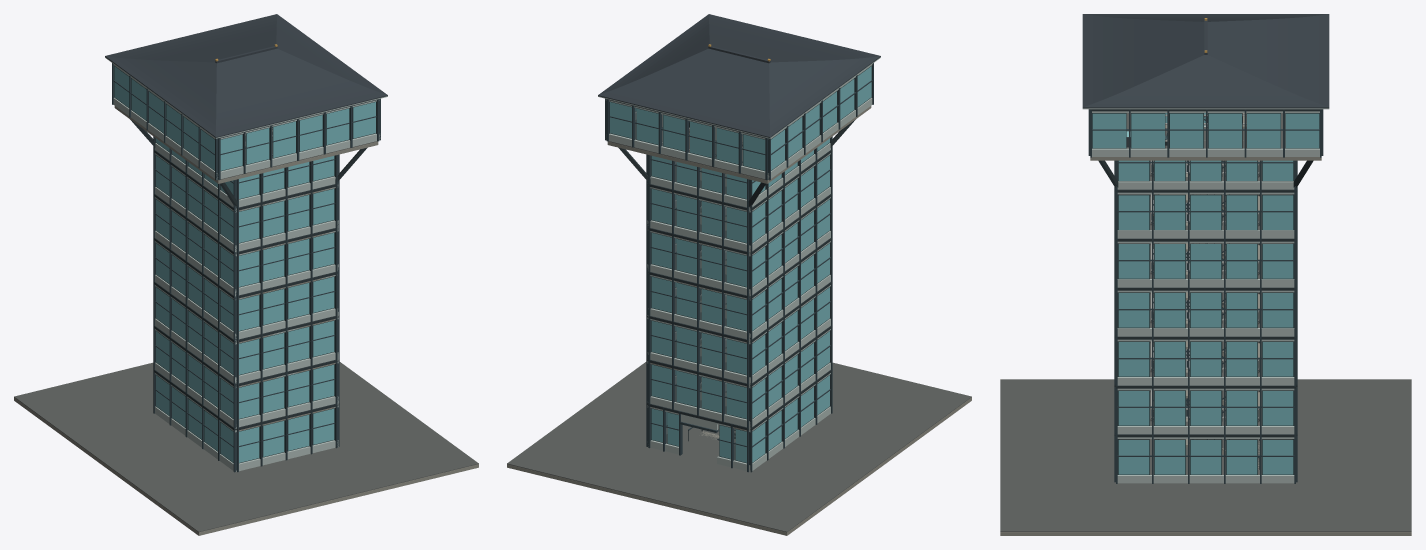
Rendered from visual-far.glb.
The picture shows the model from 3 angles, left to right: view 1: azimuth 30°, elevation 25°; view 2: azimuth 150°, elevation 25°; view 3: azimuth 270°, elevation 25°; orthographic projection. The views are drawn at different scales.
Visible parts, largest first — view 1: 金属框、密封环与独立幕墙玻璃 (×16), 石铺面与混凝土承板 (×2), 连续瓦檐与金属承板、钢梁; view 2: 金属框、密封环与独立幕墙玻璃 (×16), 石铺面与混凝土承板 (×3), 连续瓦檐与金属承板、钢梁; view 3: 金属框、密封环与独立幕墙玻璃 (×8), 石铺面与混凝土承板 (×2), 连续瓦檐与金属承板、钢梁.
Boxes of the visible parts, x1,y1,x2,y2 form: 金属框、密封环与独立幕墙玻璃 (×16): (112, 63, 379, 472); 石铺面与混凝土承板 (×2): (14, 106, 478, 535); 连续瓦檐与金属承板、钢梁: (105, 14, 387, 138); 金属框、密封环与独立幕墙玻璃 (×16): (606, 63, 873, 472); 石铺面与混凝土承板 (×3): (507, 106, 971, 535); 连续瓦檐与金属承板、钢梁: (598, 14, 880, 138); 金属框、密封环与独立幕墙玻璃 (×8): (1090, 109, 1321, 483); 石铺面与混凝土承板 (×2): (1000, 113, 1411, 535); 连续瓦檐与金属承板、钢梁: (1082, 14, 1329, 109).
Size of the model in its own units: 28 by 36.5 by 32.
Materials: 17 (17 with a texture image).
